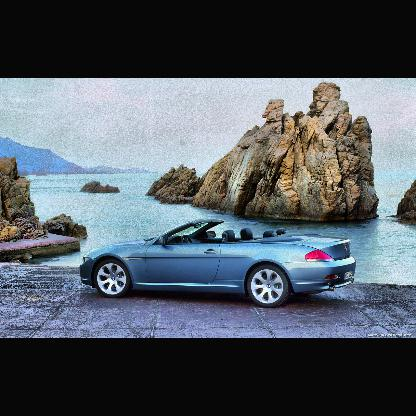BMW 6 Series Convertible 2007: (78, 217, 359, 309)
